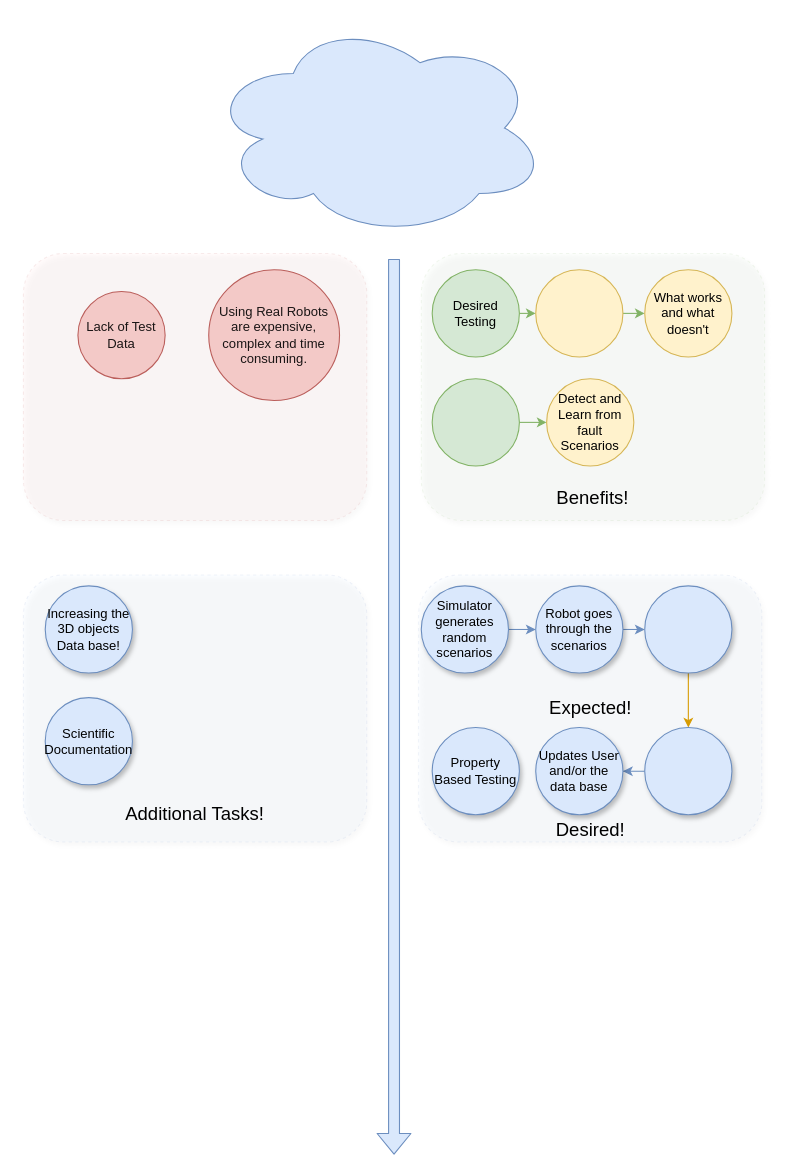
Image size: 790x1174. Some labels were removed from this diagram. Here are the shapes that lost their labels. From the top down, the centre of each, then its label:
(x=377, y=127): Automatic Test Generation
(x=579, y=313): Valuable Training Data
(x=195, y=388): Issue!
(x=475, y=422): Self Examination
(x=688, y=630): Result is Recorded
(x=688, y=772): Machine Lear. algorithm analyzes result
